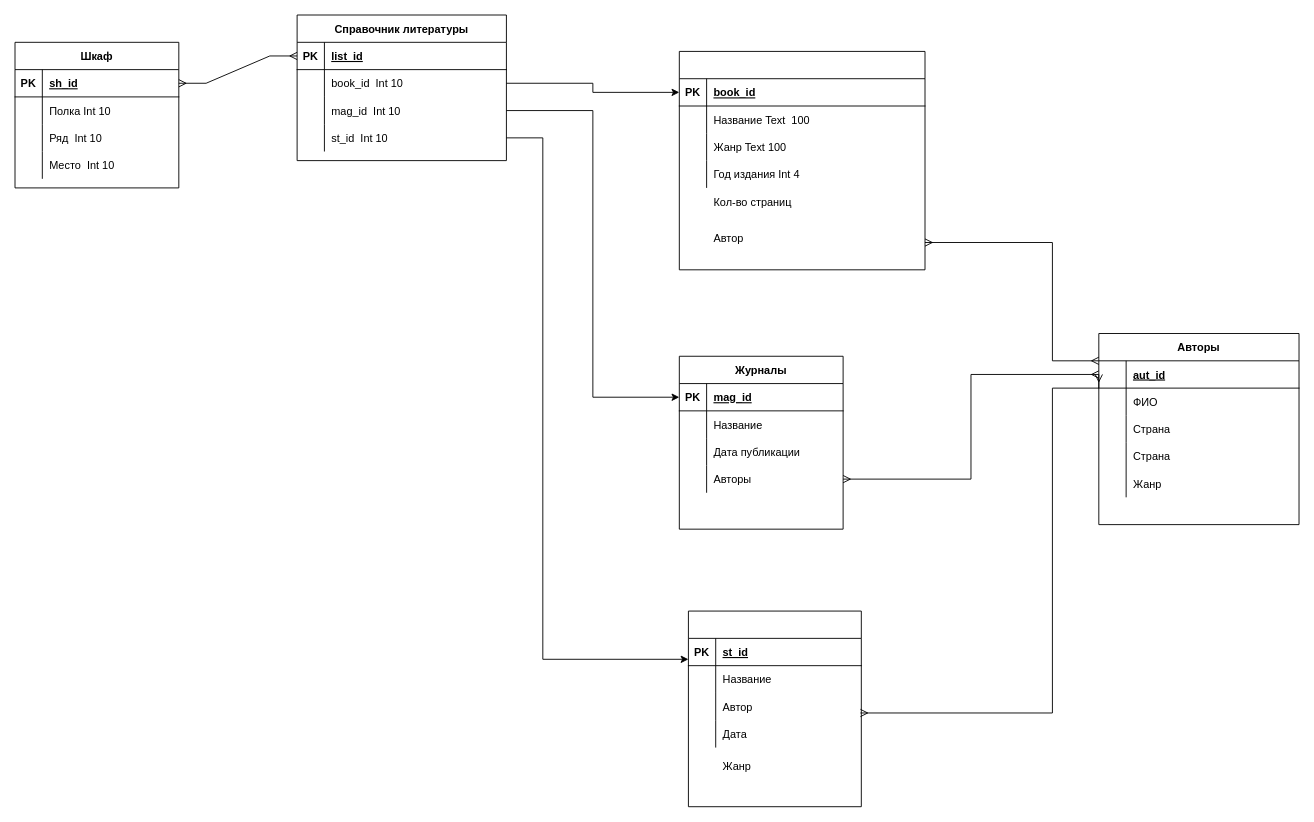
This 1314x822 diagram has some shape labels left out. The shapes that lost their labels are listed below. From the top down, each one's box as (x1, y1, x2, y2) in pixels, then its label:
(678, 51, 925, 270): Книги
(688, 610, 861, 807): Статья
